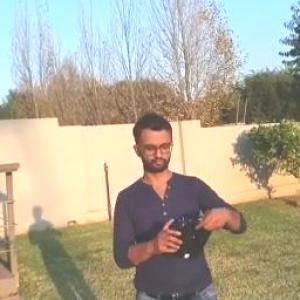follow: (108, 107, 253, 299)
